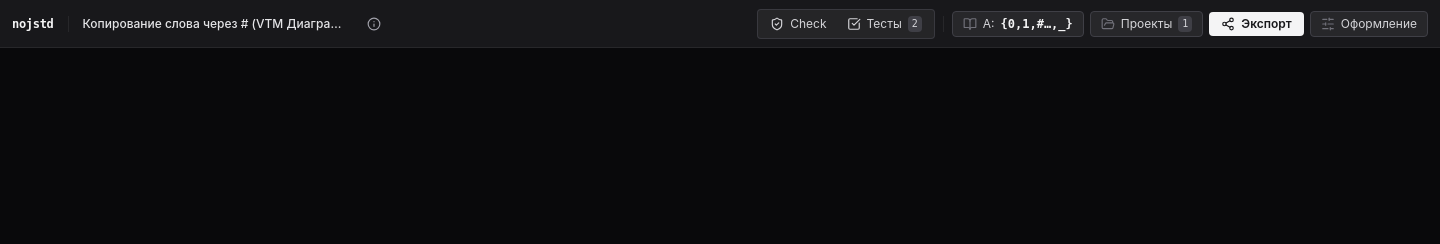
Test: React UI Components › opens and closes the project credits from the brand
Later steps or results of the test are not shown.
Click the button "nojstd".
click(33, 24)  # box 12,16 -> 54,32
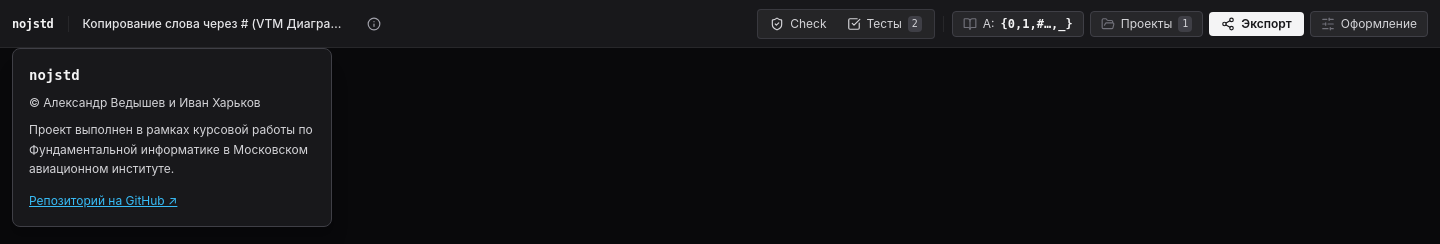
Now the text "© Александр Ведышев и Иван Харьков" is shown, box 29,94 -> 261,110
